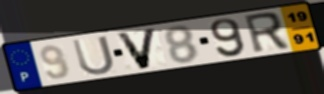8: (162, 23, 201, 65)
9: (208, 17, 246, 59), (39, 43, 72, 81)
R: (242, 10, 293, 56)
U: (70, 34, 117, 77)
V: (114, 26, 160, 71)
